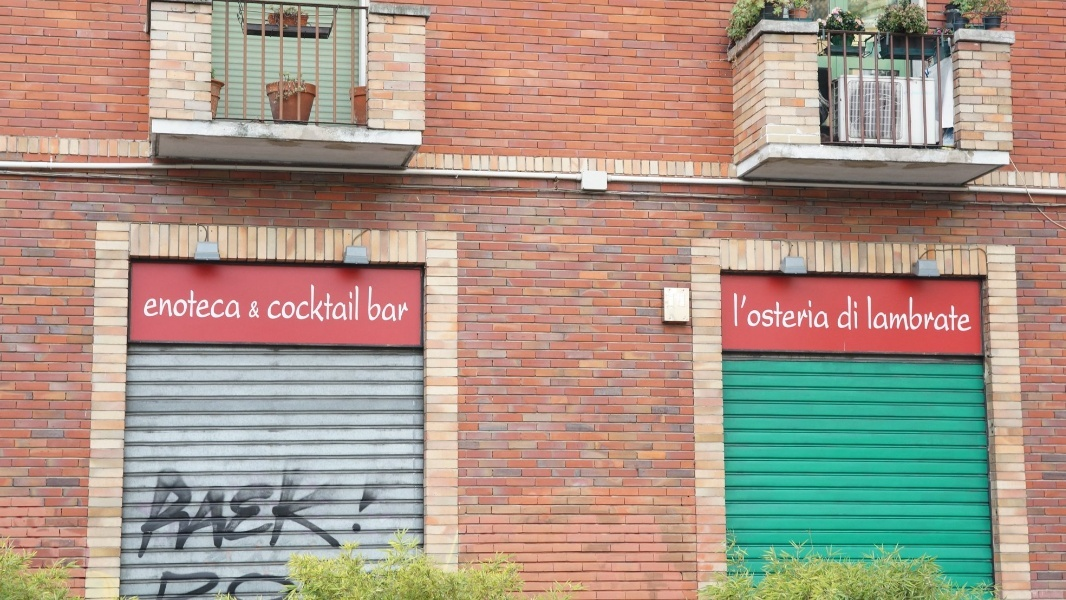text: (161, 469, 176, 559), (177, 469, 192, 559), (193, 469, 208, 559), (209, 469, 224, 559), (225, 469, 240, 559), (241, 469, 256, 559), (257, 469, 272, 559), (273, 469, 288, 559), (289, 469, 304, 559), (305, 469, 320, 559), (321, 469, 336, 559), (337, 469, 352, 559), (353, 469, 368, 559), (369, 469, 384, 559), (385, 469, 396, 559), (150, 469, 160, 559), (273, 284, 288, 324), (289, 284, 304, 324), (305, 284, 320, 324), (321, 284, 336, 324), (337, 284, 352, 324), (369, 285, 384, 323), (385, 285, 400, 323), (737, 292, 752, 330), (753, 292, 768, 330), (769, 292, 784, 330), (785, 292, 800, 330), (801, 292, 816, 330), (881, 296, 896, 332), (897, 296, 912, 332), (913, 296, 928, 332), (929, 296, 944, 332), (945, 296, 960, 332), (225, 288, 241, 319), (817, 292, 830, 330), (161, 288, 176, 319), (177, 288, 192, 319), (193, 288, 208, 319), (209, 288, 224, 319), (868, 296, 880, 332), (161, 572, 176, 600), (177, 572, 192, 600), (193, 572, 208, 600), (209, 572, 224, 600), (225, 572, 240, 600), (241, 572, 256, 600), (257, 572, 272, 600), (273, 572, 288, 600), (289, 572, 304, 600), (147, 288, 160, 319), (961, 296, 972, 332), (837, 296, 848, 330), (849, 296, 859, 330), (401, 285, 409, 323), (353, 284, 359, 324), (733, 292, 736, 330), (270, 284, 272, 324), (252, 301, 256, 319), (257, 301, 261, 319), (158, 572, 160, 600), (305, 572, 307, 600)
